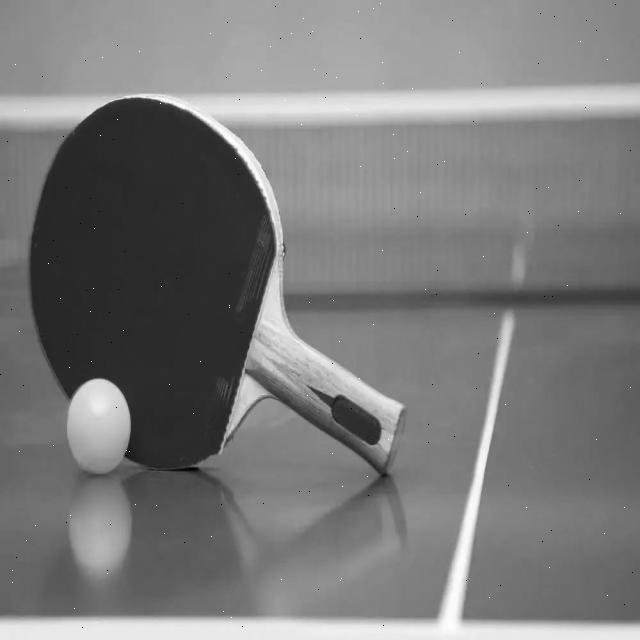ping-pong-ball: (64, 373, 132, 476)
